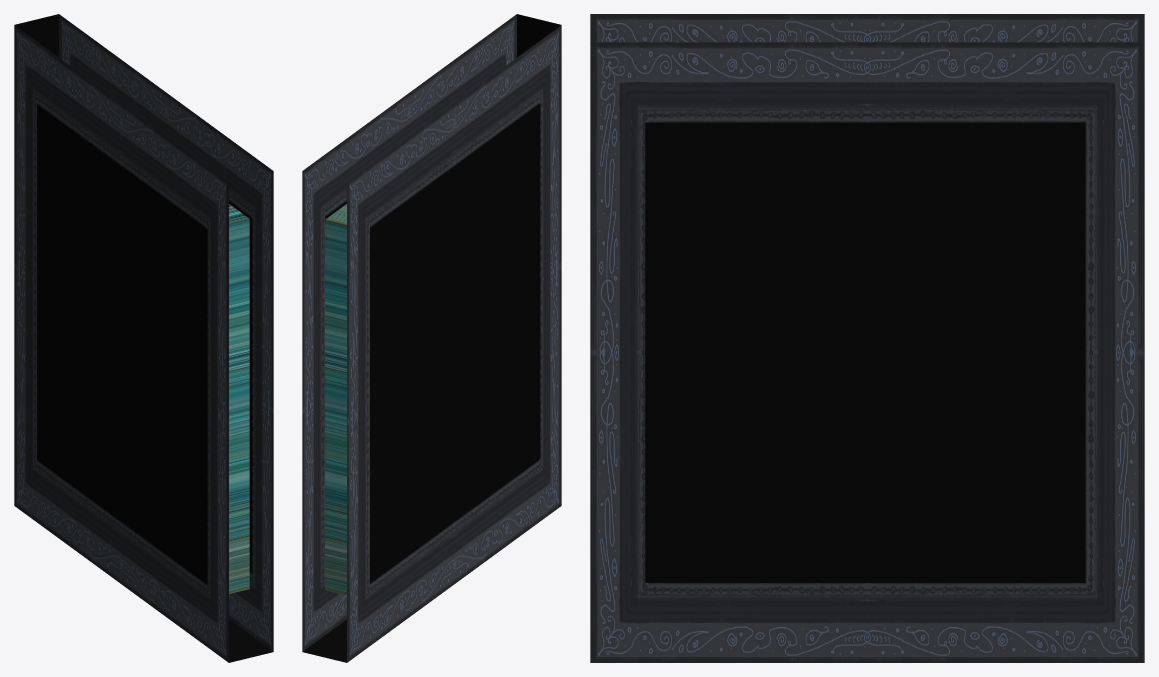
Rendered from AI_cat.glb.
The picture shows the model from 3 angles, left to right: view 1: azimuth 30°, elevation 25°; view 2: azimuth 150°, elevation 25°; view 3: azimuth 270°, elevation 25°; orthographic projection. The views are drawn at different scales.
Parts seen in each view (by area): view 1: 2D_Bilderrahmen_dark, Plane; view 2: 2D_Bilderrahmen_dark, Plane; view 3: 2D_Bilderrahmen_dark.
Part boxes in pixels (x1,y1,x2,y2): 2D_Bilderrahmen_dark: (14,14,273,662); Plane: (229,204,249,593); 2D_Bilderrahmen_dark: (302,14,561,662); Plane: (325,204,346,595); 2D_Bilderrahmen_dark: (590,14,1144,662).
Size of the model in its own units: 0.4417 by 4.53 by 3.67.
Materials: 3 (2 with a texture image).
